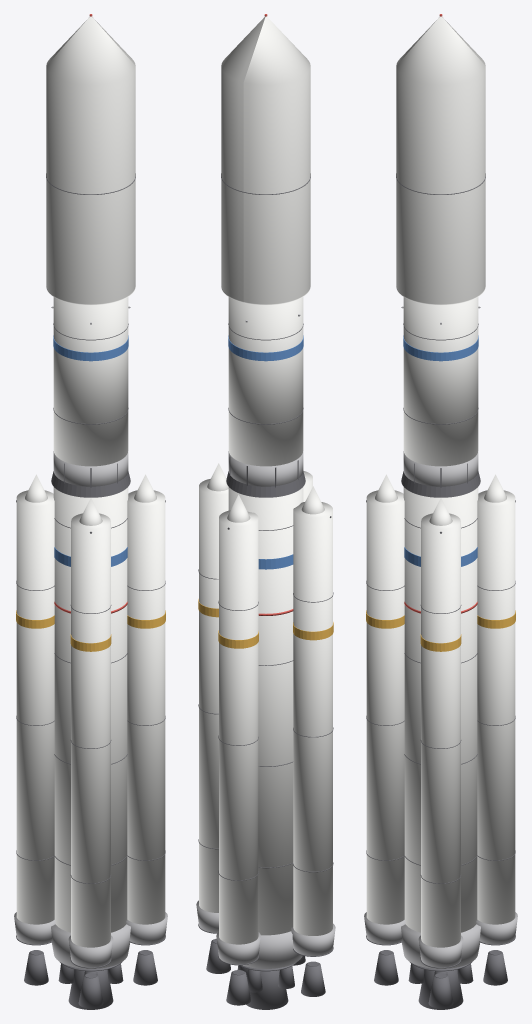
File: rocket_model.glb
3 views of the same model, side by side, from view 1: azimuth 90°, elevation 25°; view 2: azimuth 150°, elevation 25°; view 3: azimuth 270°, elevation 25° (orthographic).
Parts seen in each view (by area): view 1: Fairing_L, BA_Body, BR_Body, BL_Body, S1_Body, S2_Body, S1S2_Adapter, S1_Skirt, S1_RingTop, BA_Skirt, S1_NzlMain, BR_Skirt (+10 smaller); view 2: Fairing_L, BR_Body, BA_Body, S1_Body, S2_Body, BF_Body, Fairing_R, S1S2_Adapter, S1_Skirt, S1_NzlMain, S1_RingTop, BR_Skirt (+12 smaller); view 3: Fairing_R, BF_Body, BR_Body, BL_Body, S1_Body, S2_Body, S1S2_Adapter, S1_Skirt, S1_RingTop, BF_Skirt, S1_NzlMain, BR_Skirt (+10 smaller).
Part boxes in pixels (x1,y1,x2,y2): Fairing_L: [46, 16, 135, 305]; BA_Body: [71, 513, 110, 947]; BR_Body: [16, 490, 54, 924]; BL_Body: [127, 490, 165, 924]; S1_Body: [53, 487, 128, 932]; S2_Body: [53, 297, 128, 466]; S1S2_Adapter: [53, 451, 128, 486]; S1_Skirt: [51, 924, 130, 968]; S1_RingTop: [51, 471, 130, 497]; BA_Skirt: [68, 935, 113, 967]; S1_NzlMain: [68, 969, 113, 1009]; BR_Skirt: [14, 912, 55, 944]; Fairing_L: [243, 16, 310, 305]; BR_Body: [219, 510, 258, 944]; BA_Body: [293, 502, 332, 935]; S1_Body: [228, 487, 303, 935]; S2_Body: [228, 297, 303, 466]; BF_Body: [199, 479, 228, 912]; Fairing_R: [221, 16, 265, 302]; S1S2_Adapter: [228, 451, 303, 486]; S1_Skirt: [242, 931, 302, 968]; S1_NzlMain: [246, 970, 288, 1009]; S1_RingTop: [226, 471, 305, 497]; BR_Skirt: [216, 932, 260, 964]; Fairing_R: [396, 16, 485, 305]; BF_Body: [421, 513, 460, 947]; BR_Body: [477, 490, 515, 924]; BL_Body: [366, 490, 404, 924]; S1_Body: [403, 487, 478, 932]; S2_Body: [403, 297, 478, 466]; S1S2_Adapter: [403, 451, 478, 486]; S1_Skirt: [401, 924, 480, 968]; S1_RingTop: [401, 471, 480, 497]; BF_Skirt: [418, 935, 463, 967]; S1_NzlMain: [418, 969, 463, 1009]; BR_Skirt: [476, 912, 517, 944].
Size of the model in its own units: 6.2 by 43.84 by 6.2.
